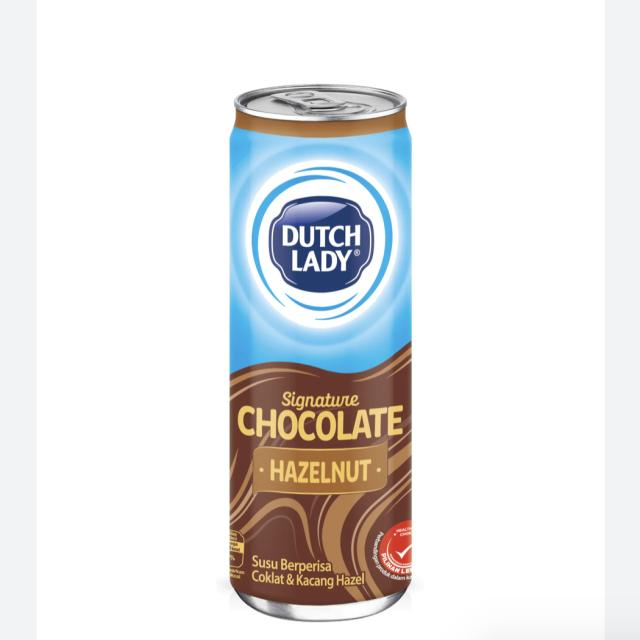recyclable: (183, 52, 446, 640)
